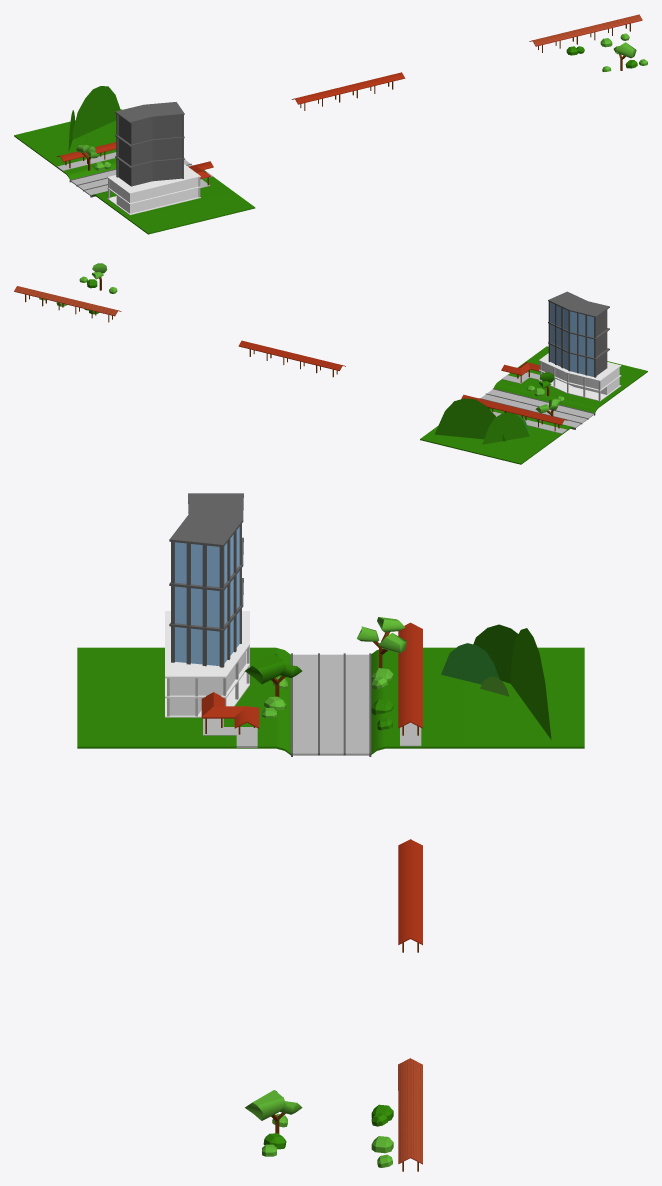
The model's file is Level 2 Chunk 6.fbx.
3 views of the same model, one above another, from view 1: azimuth 30°, elevation 25°; view 2: azimuth 150°, elevation 25°; view 3: azimuth 270°, elevation 25° (orthographic). The views are drawn at different scales.
Parts seen in each view (by area): view 1: pCube6849, pCube7035, pCube7039, pasted__pasted__pCube5520, pCube6850, pCube6839, pCube7910, pCube7892, pCube6843, pCube6840, pCube7041, pCube7545 (+1 smaller); view 2: pCube6849, pCube7039, pCube7035, pasted__pasted__pCube5520, pCube7041, pasted__pCube5624, pCube6850, pCube7892, pCube7910, pCube7546, pCube6839, pCube6842 (+2 smaller); view 3: pCube7039, pCube7035, pCube7041, pCube6849, pCube6850, pCube7892, pCube7910, pasted__pasted__pCube5520, pCube7546, pCube6840, pasted__pasted__pCube5521, pasted__pCube5624 (+5 smaller).
Boxes of the visible parts, bbox=[...] form: pCube6849: bbox=[118, 115, 181, 186]; pCube7035: bbox=[91, 170, 255, 234]; pCube7039: bbox=[14, 109, 121, 179]; pasted__pasted__pCube5520: bbox=[72, 86, 120, 139]; pCube6850: bbox=[115, 102, 184, 123]; pCube6839: bbox=[109, 177, 198, 203]; pCube7910: bbox=[291, 72, 405, 104]; pCube7892: bbox=[529, 14, 642, 46]; pCube6843: bbox=[116, 188, 198, 213]; pCube6840: bbox=[107, 164, 200, 194]; pCube7041: bbox=[71, 159, 192, 195]; pCube7545: bbox=[57, 152, 116, 170]; pCube6849: bbox=[550, 302, 607, 376]; pCube7039: bbox=[420, 409, 574, 464]; pCube7035: bbox=[493, 346, 647, 413]; pasted__pasted__pCube5520: bbox=[434, 398, 505, 441]; pCube7041: bbox=[481, 389, 593, 427]; pasted__pCube5624: bbox=[482, 412, 529, 444]; pCube6850: bbox=[548, 291, 609, 317]; pCube7892: bbox=[14, 286, 121, 316]; pCube7910: bbox=[238, 340, 345, 370]; pCube7546: bbox=[461, 394, 567, 425]; pCube6839: bbox=[541, 362, 619, 389]; pCube6842: bbox=[539, 379, 621, 401]; pCube7039: bbox=[371, 647, 584, 754]; pCube7035: bbox=[77, 647, 290, 755]; pCube7041: bbox=[293, 654, 369, 755]; pCube6849: bbox=[175, 527, 239, 665]; pCube6850: bbox=[169, 493, 243, 547]; pCube7892: bbox=[398, 1058, 422, 1164]; pCube7910: bbox=[398, 839, 422, 945]; pasted__pasted__pCube5520: bbox=[510, 628, 551, 739]; pCube7546: bbox=[398, 622, 422, 728]; pCube6840: bbox=[165, 611, 249, 678]; pasted__pasted__pCube5521: bbox=[441, 643, 499, 684]; pasted__pCube5624: bbox=[473, 624, 518, 683].
Size of the model in its own units: 66.31 by 10.08 by 26.56.
1 material, 1 textured.
